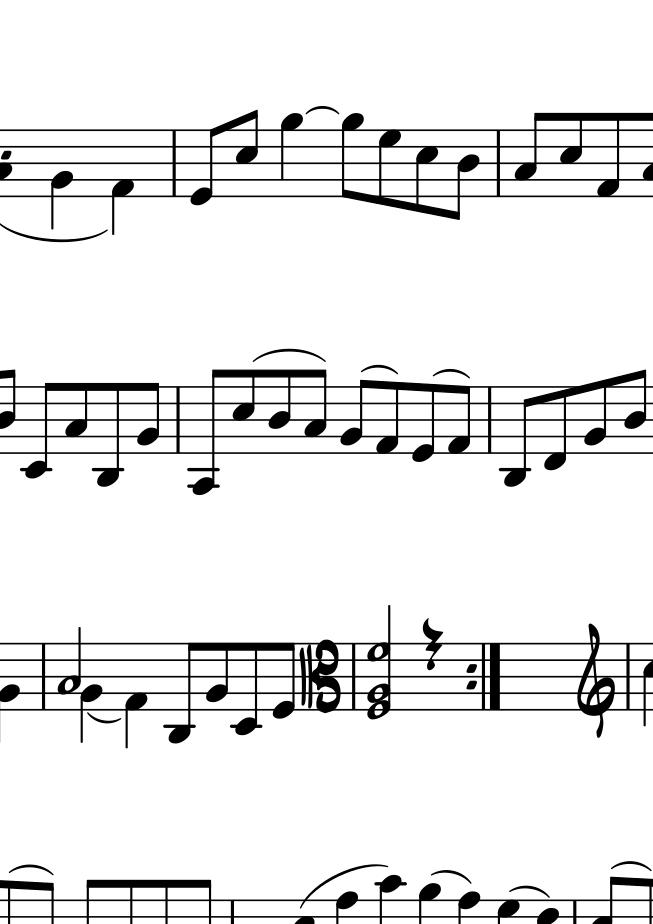2_3: (54, 626, 82, 712)
2_th: (365, 604, 394, 721)
4_1: (123, 640, 148, 752), (110, 128, 135, 236)
4_2: (48, 127, 74, 231), (80, 642, 105, 746)
4_9: (278, 112, 305, 200)
8_-1: (542, 385, 572, 471)
8_-2: (18, 380, 58, 480), (231, 640, 263, 738)
8_-3: (165, 640, 200, 745), (502, 384, 536, 489), (94, 381, 123, 489)
8_-4: (188, 367, 226, 496)
8_0: (188, 125, 224, 208), (265, 639, 296, 721), (408, 382, 438, 465)
8_1: (593, 111, 622, 201), (375, 380, 402, 455), (447, 383, 472, 459)
8_2: (339, 378, 370, 454), (582, 377, 609, 455), (204, 640, 231, 715), (134, 381, 160, 455)
8_3: (510, 112, 546, 200), (302, 367, 328, 457), (63, 381, 91, 456)
8_4: (450, 128, 480, 223), (265, 367, 294, 457), (622, 368, 649, 456)
8_5: (230, 368, 259, 456), (557, 111, 584, 199), (411, 128, 438, 215), (234, 109, 259, 199)
8_7: (375, 127, 402, 208)
8_9: (340, 113, 364, 205)
Cclef: (298, 639, 343, 717)
Gclef: (577, 622, 619, 740)
Rests4: (421, 618, 445, 674)
RightRepeatSign: (464, 643, 503, 709)
Single_barline: (620, 642, 636, 709), (482, 384, 497, 455), (166, 129, 182, 195), (490, 130, 506, 196), (36, 644, 52, 707), (170, 385, 185, 452)
Slur: (1, 223, 108, 245), (252, 346, 329, 364), (359, 363, 402, 378), (510, 883, 549, 899), (432, 869, 470, 882), (303, 105, 340, 117), (86, 712, 119, 725), (435, 368, 471, 379)
